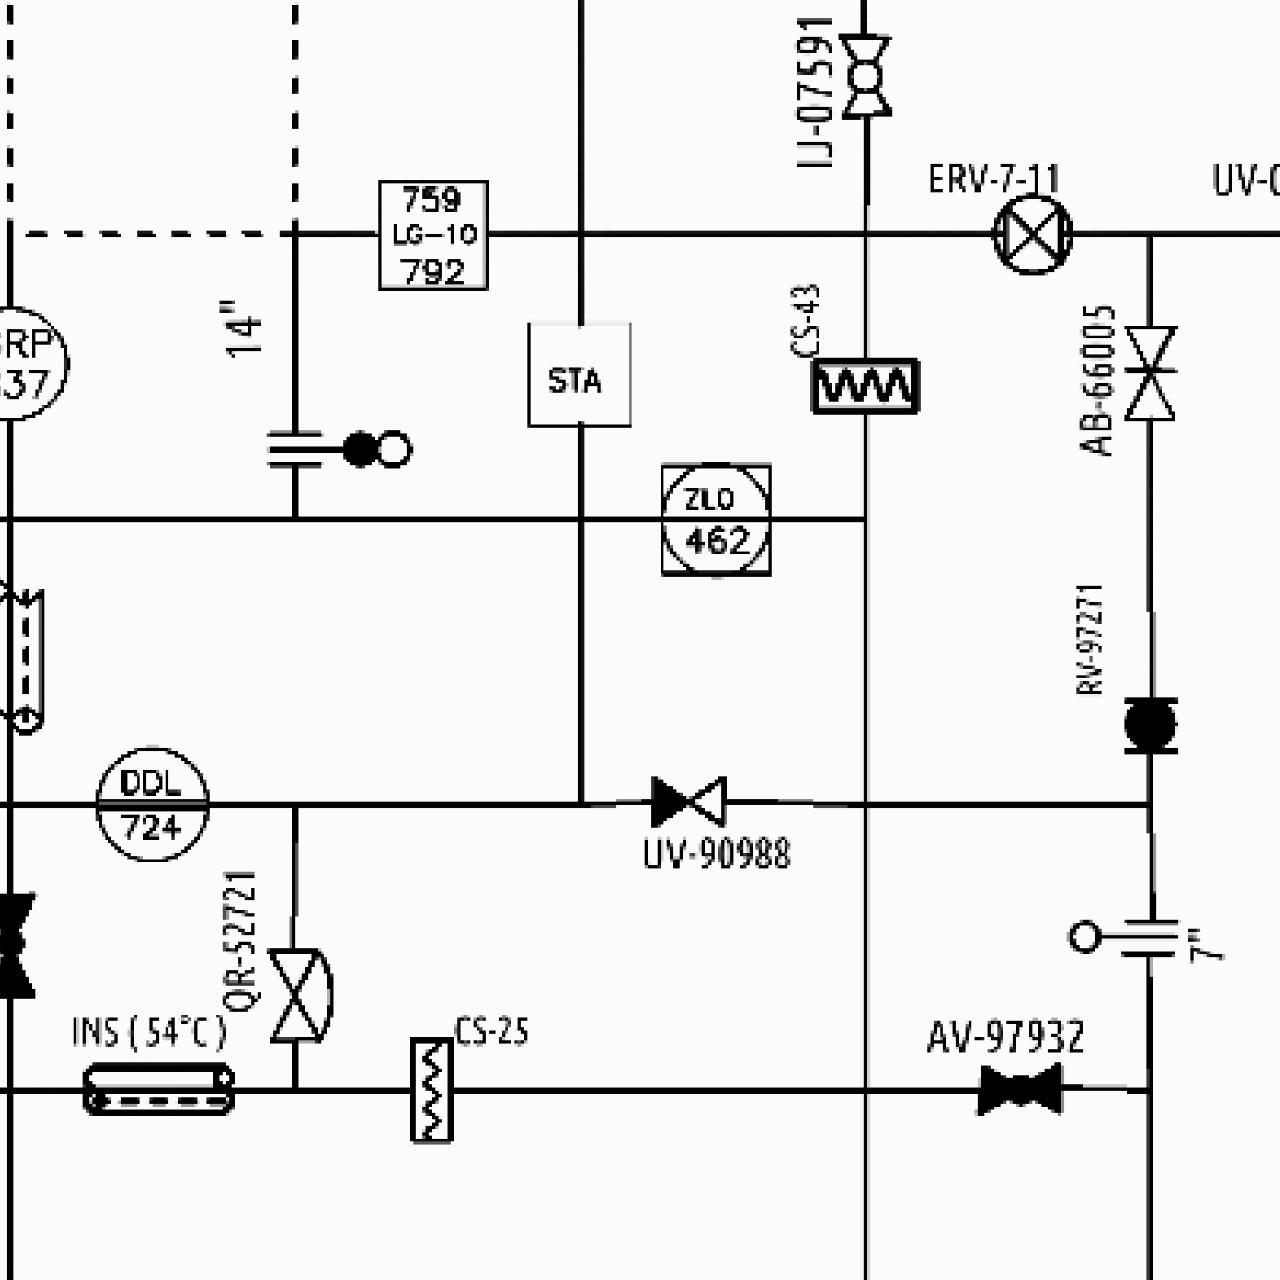Control-Panel: (88, 741, 215, 866)
Half closed valve: (646, 770, 729, 831)
